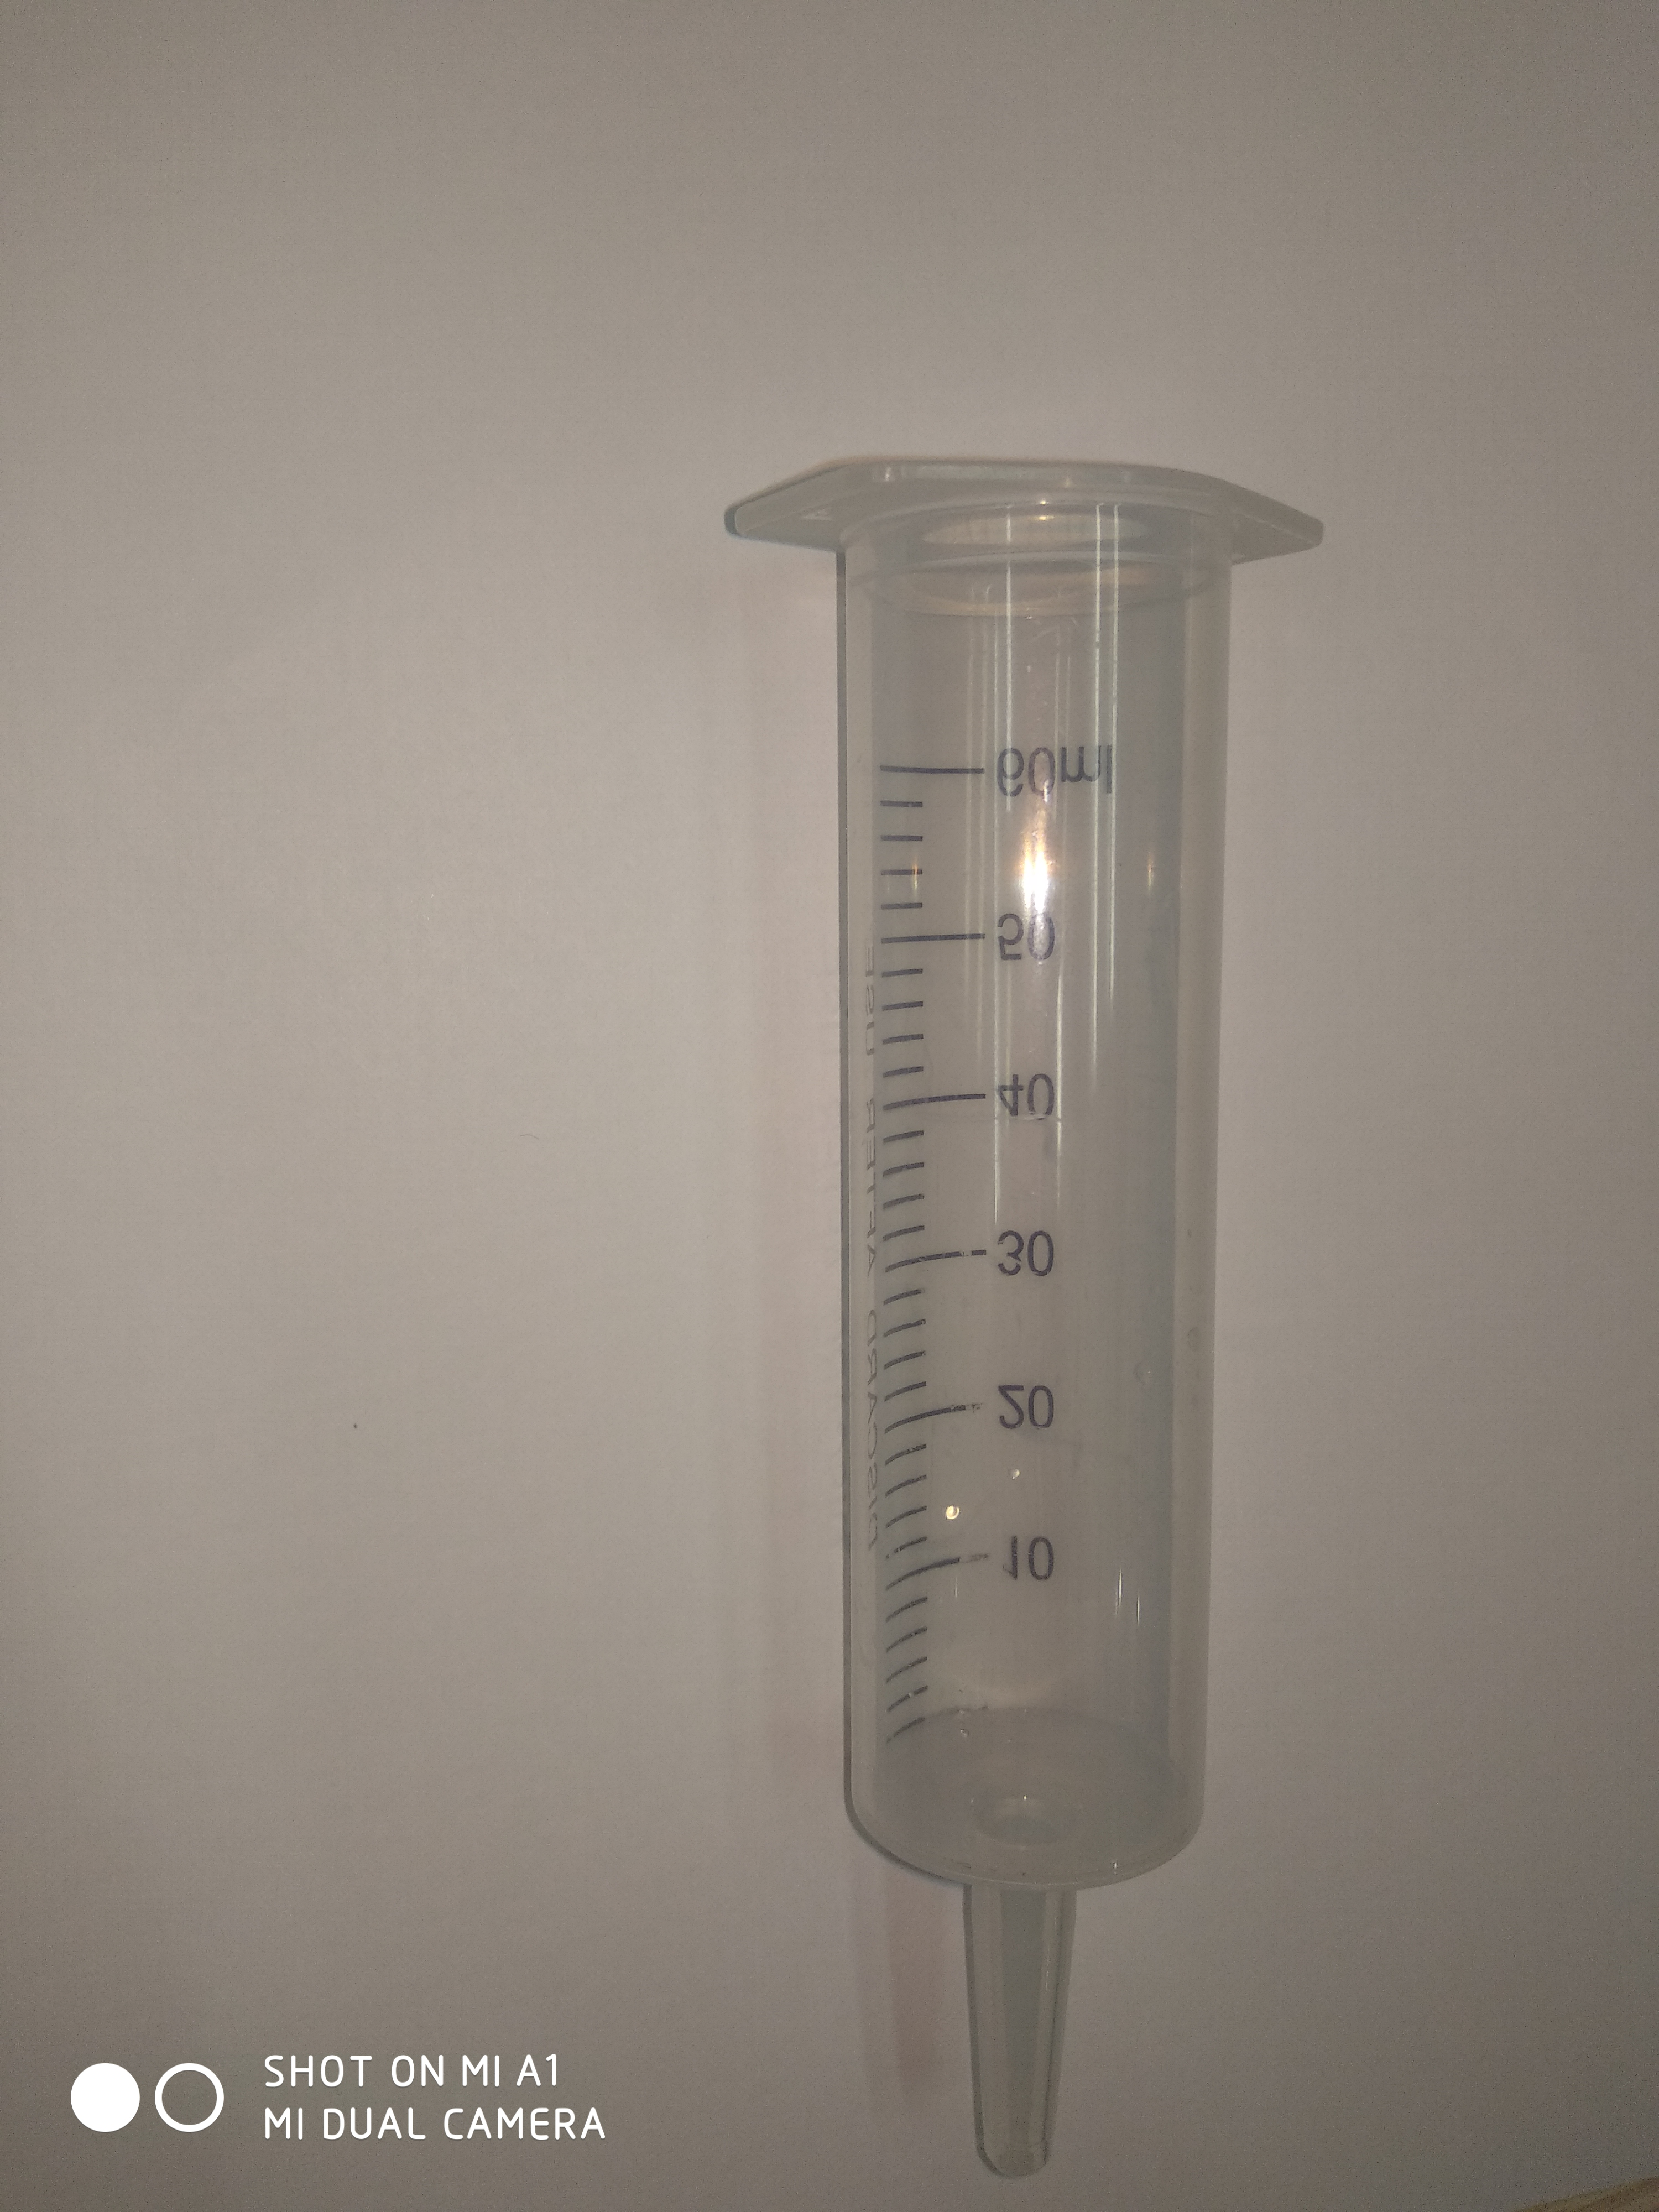syringe: (720, 446, 1335, 2189)
